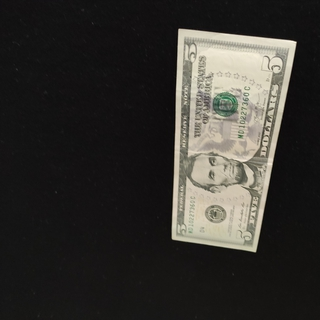5USDFront: (170, 28, 297, 254)
